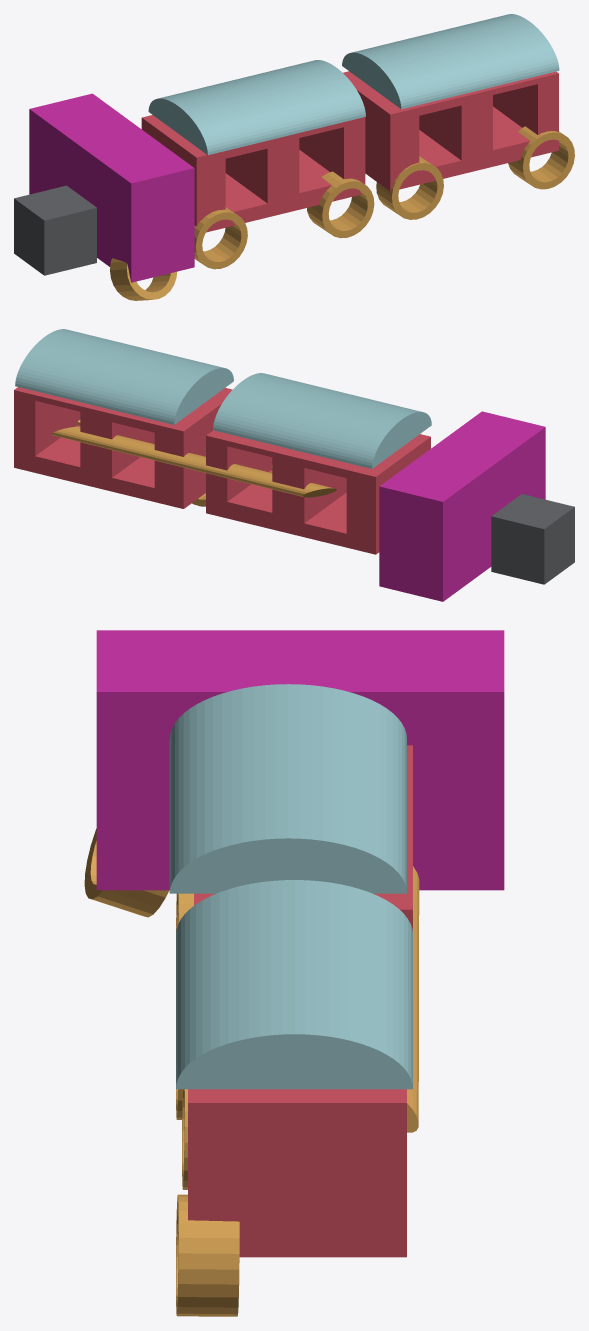
Rendered from trainmodel.glb.
3 views of the same model, one above another, from view 1: azimuth 30°, elevation 25°; view 2: azimuth 150°, elevation 25°; view 3: azimuth 270°, elevation 25° (orthographic). The views are drawn at different scales.
Visible parts, largest first — view 1: Mesh_Mesh_head_geo.001_lambert2SG.001; view 2: Mesh_Mesh_head_geo.001_lambert2SG.001; view 3: Mesh_Mesh_head_geo.001_lambert2SG.001.
Boxes of the visible parts, bbox=[...] form: Mesh_Mesh_head_geo.001_lambert2SG.001: bbox=[14, 14, 574, 300]; Mesh_Mesh_head_geo.001_lambert2SG.001: bbox=[14, 329, 574, 601]; Mesh_Mesh_head_geo.001_lambert2SG.001: bbox=[84, 630, 504, 1316].
Size of the model in its own units: 198 by 54.15 by 69.
